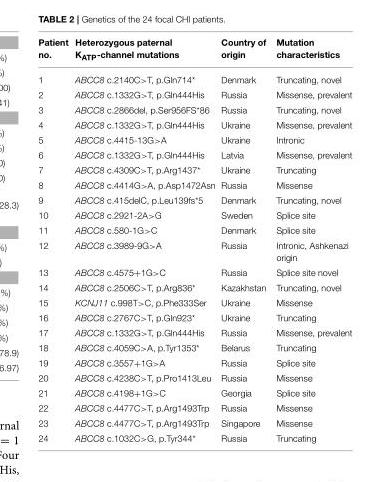table: (37, 37, 351, 442)
table column: (70, 37, 217, 442), (270, 37, 351, 442), (217, 37, 270, 442), (37, 37, 70, 442)
table column header: (37, 37, 351, 68)
table row: (37, 37, 351, 68), (37, 237, 351, 265), (37, 68, 351, 87), (37, 87, 351, 102), (37, 102, 351, 117), (37, 117, 351, 132), (37, 132, 351, 147), (37, 147, 351, 162), (37, 162, 351, 177), (37, 177, 351, 192), (37, 192, 351, 207), (37, 207, 351, 222), (37, 222, 351, 237), (37, 265, 351, 280), (37, 280, 351, 295), (37, 295, 351, 310), (37, 310, 351, 325), (37, 325, 351, 340), (37, 340, 351, 355), (37, 355, 351, 370), (37, 370, 351, 385), (37, 385, 351, 400), (37, 400, 351, 415), (37, 415, 351, 430), (37, 430, 351, 442)
